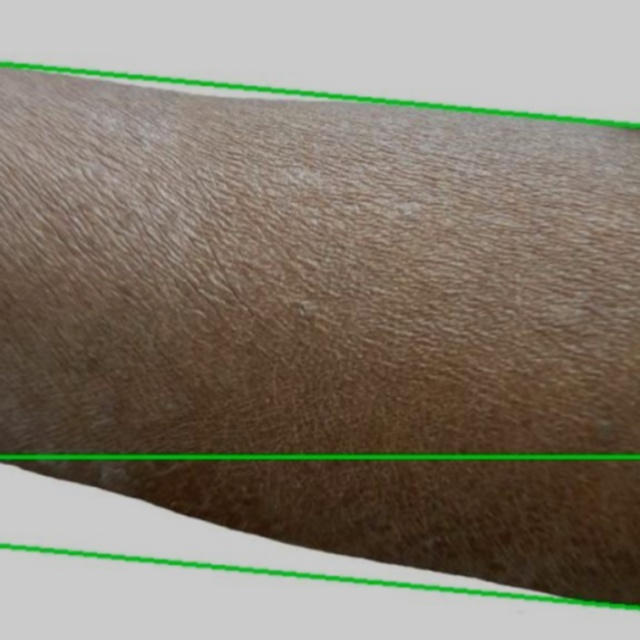Tinea Corporis: (0, 64, 639, 608), (0, 456, 639, 639)
